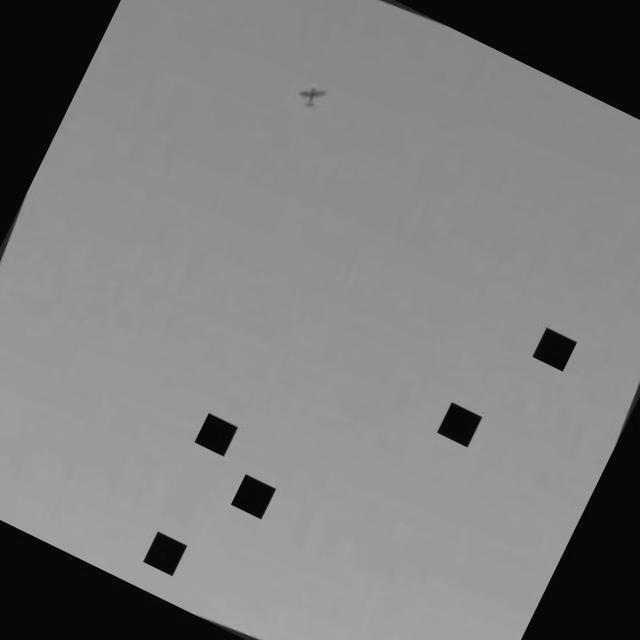aeroplane: (294, 78, 331, 116)
